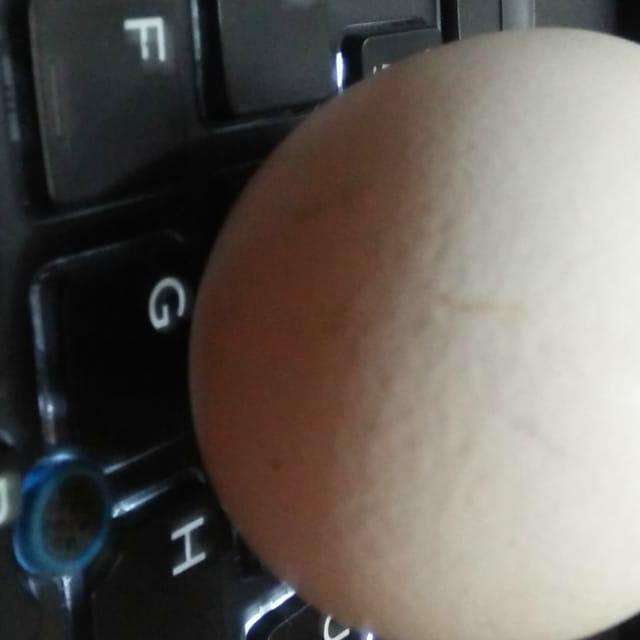egg: (182, 20, 640, 640)
